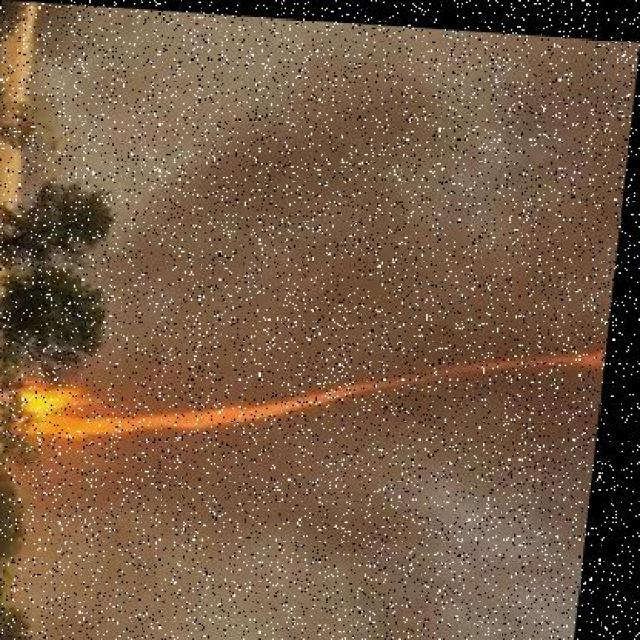fire: (2, 291, 614, 494)
